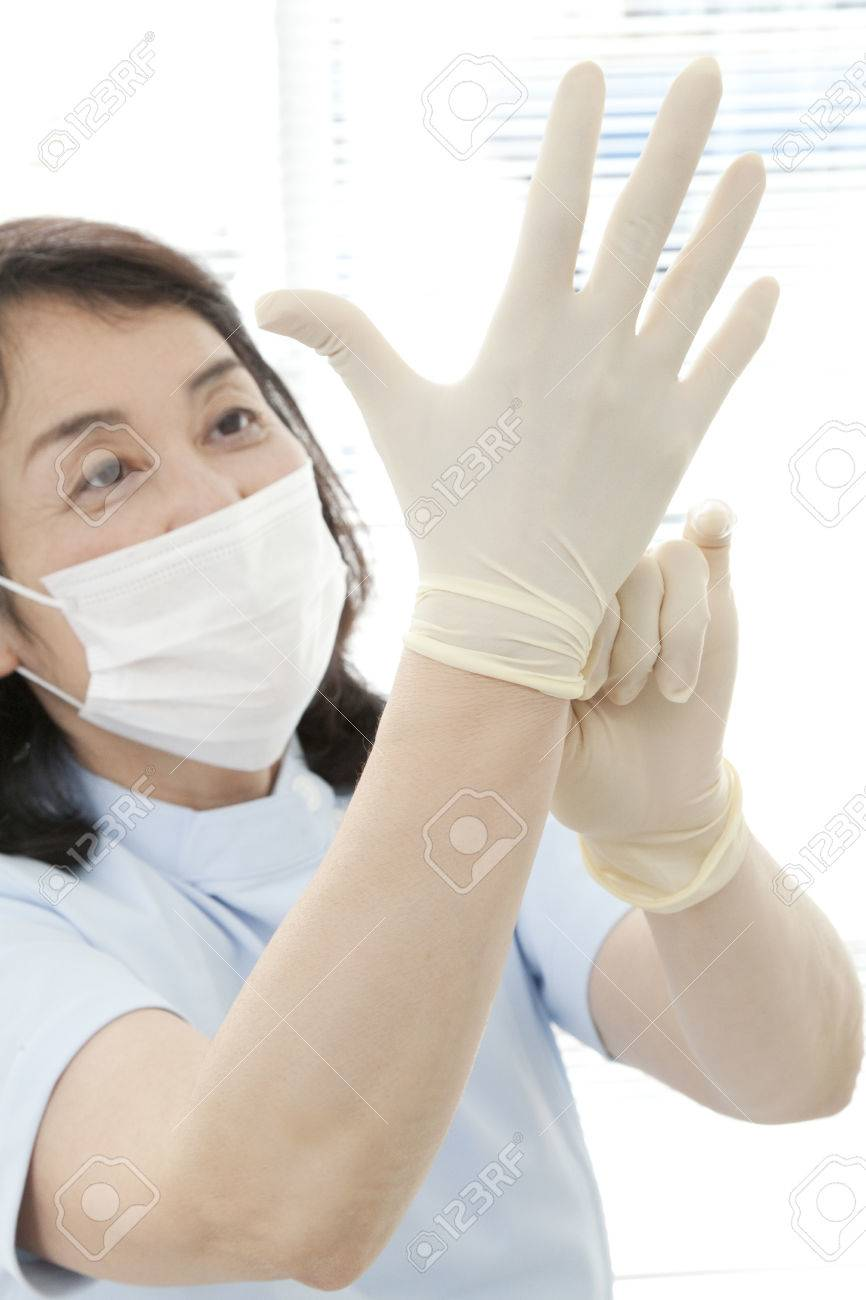mask: (50, 462, 348, 770)
